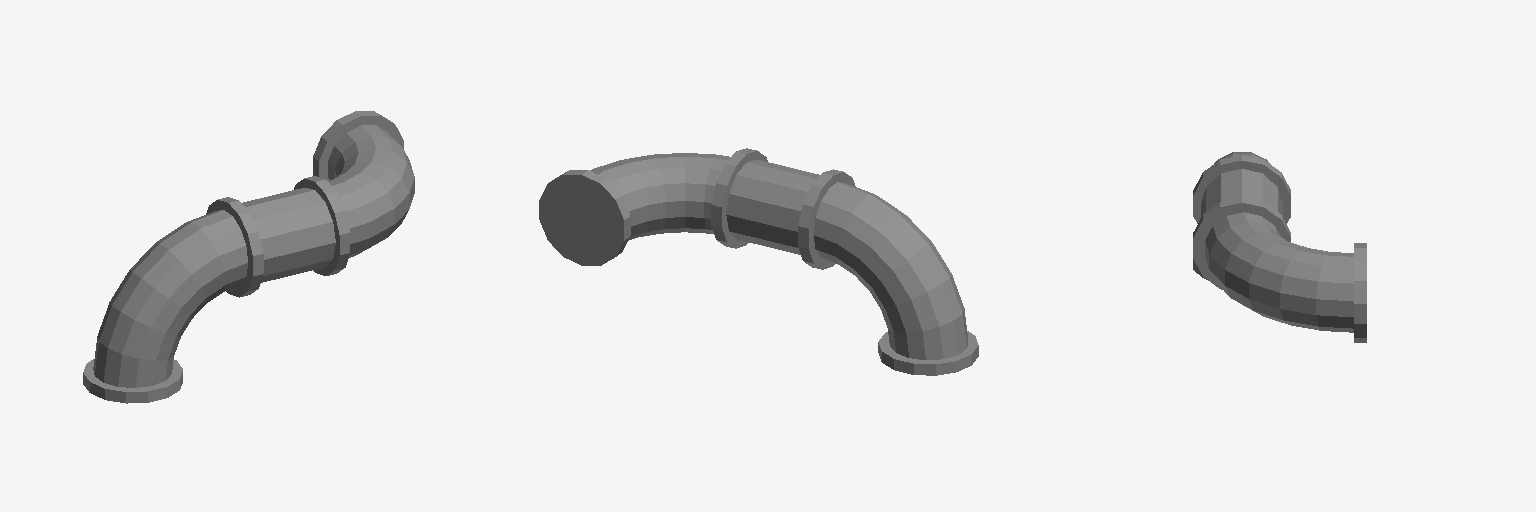
File: pipe_4_lod1.obj
The picture shows the model from 3 angles: view 1: azimuth 30°, elevation 25°; view 2: azimuth 150°, elevation 25°; view 3: azimuth 270°, elevation 25°; orthographic projection.
Visible parts, largest first — view 1: pipe_4_lod1.obj; view 2: pipe_4_lod1.obj; view 3: pipe_4_lod1.obj.
Boxes of the visible parts, box(x1,y1,x2,y2) form: pipe_4_lod1.obj: box(83, 111, 414, 403); pipe_4_lod1.obj: box(539, 148, 978, 375); pipe_4_lod1.obj: box(1193, 152, 1366, 342).
Size of the model in its own units: 5.31 by 2.14 by 2.16.